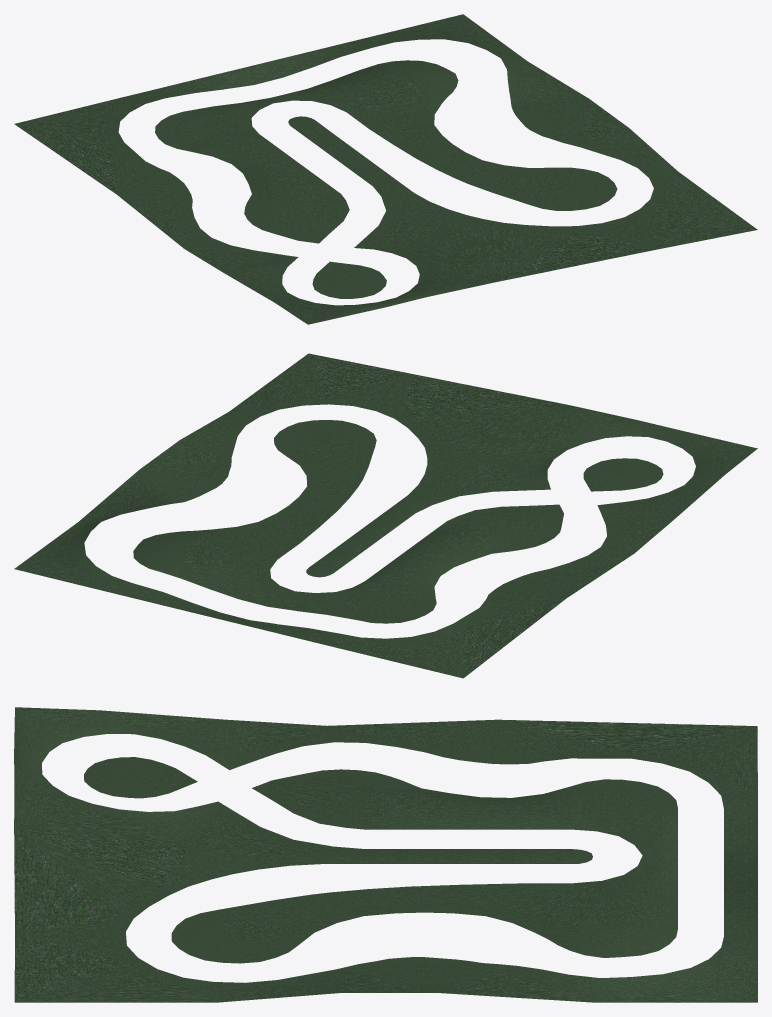
The model's file is grass.obj.
3 renders of one model, top to bottom at view 1: azimuth 30°, elevation 25°; view 2: azimuth 150°, elevation 25°; view 3: azimuth 270°, elevation 25°, orthographic. The views are drawn at different scales.
Visible parts, largest first — view 1: grass; view 2: grass; view 3: grass.
Part boxes in pixels (x1,y1,x2,y2): grass: (14, 14, 757, 324); grass: (14, 353, 757, 678); grass: (14, 707, 757, 1002).
Size of the model in its own units: 48.02 by 2.19 by 54.53.
Materials: 1 (1 with a texture image).
